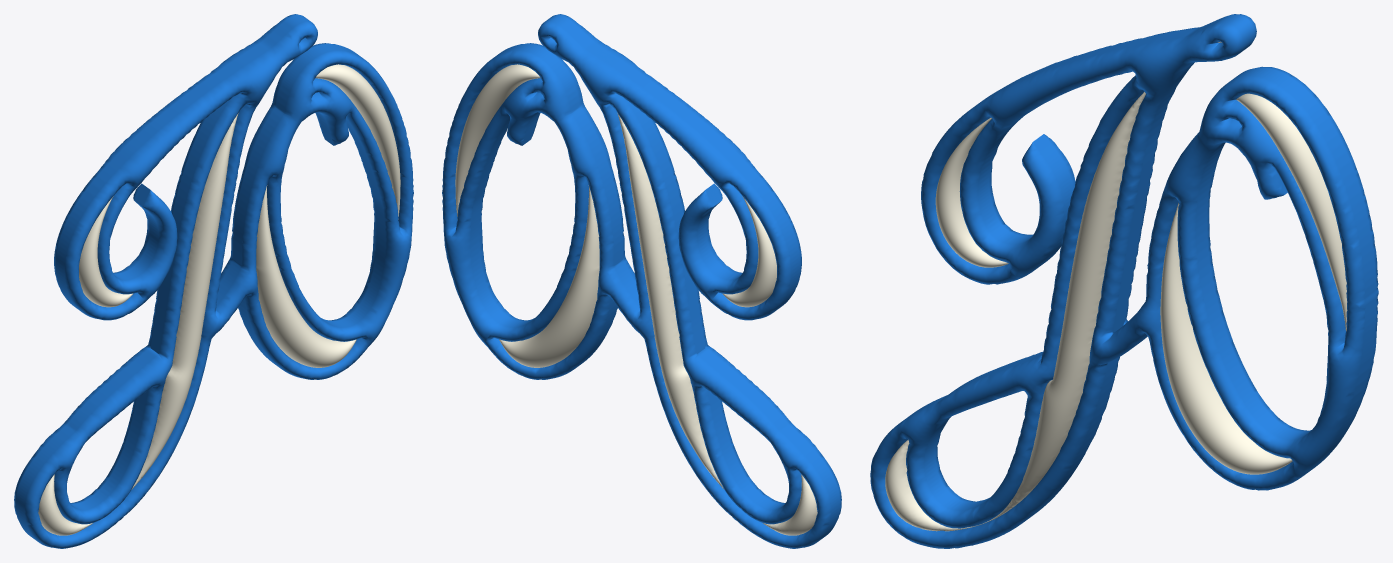
The picture shows the model from 3 angles, left to right: view 1: azimuth 30°, elevation 25°; view 2: azimuth 150°, elevation 25°; view 3: azimuth 330°, elevation 25°; orthographic projection. The views are drawn at different scales.
Bounding box in the file's own units: 1.25 × 1.44 × 0.1885.
